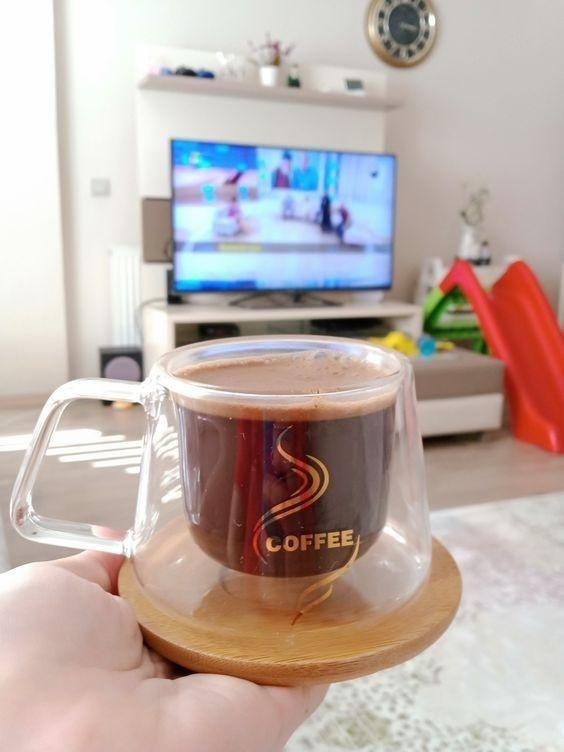glass-mug: (8, 330, 444, 617)
